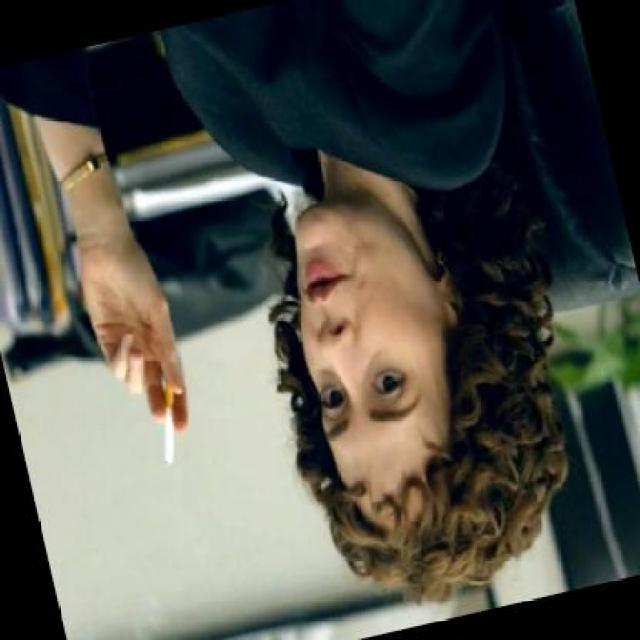smoke: (143, 382, 191, 468)
